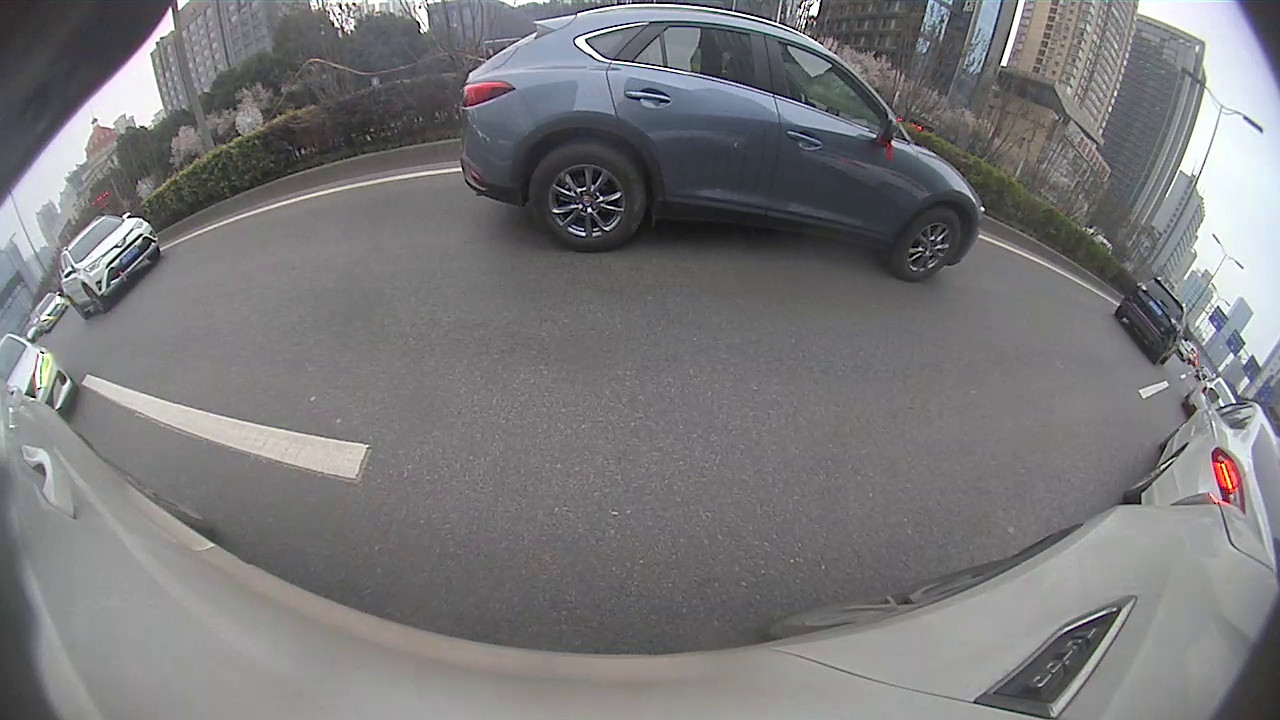car: (457, 3, 987, 285), (1119, 385, 1278, 573), (56, 211, 162, 320), (1113, 275, 1193, 367)
front: (894, 213, 966, 281)
rear: (529, 151, 647, 250)
